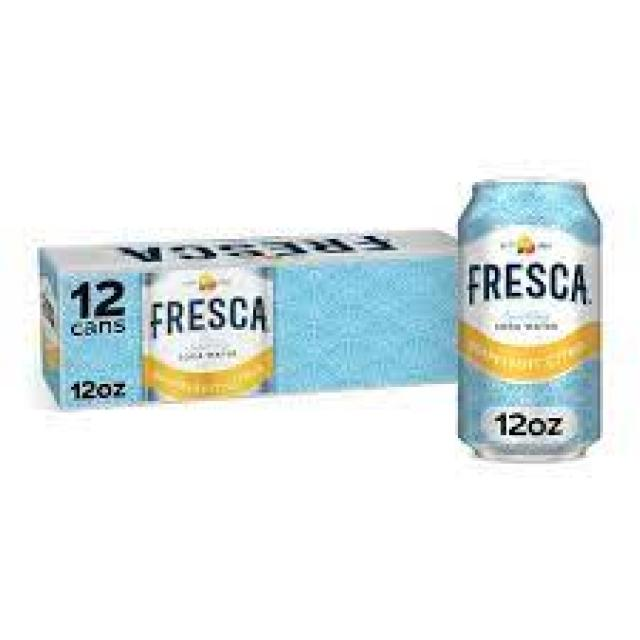Cans: (447, 168, 617, 475)
